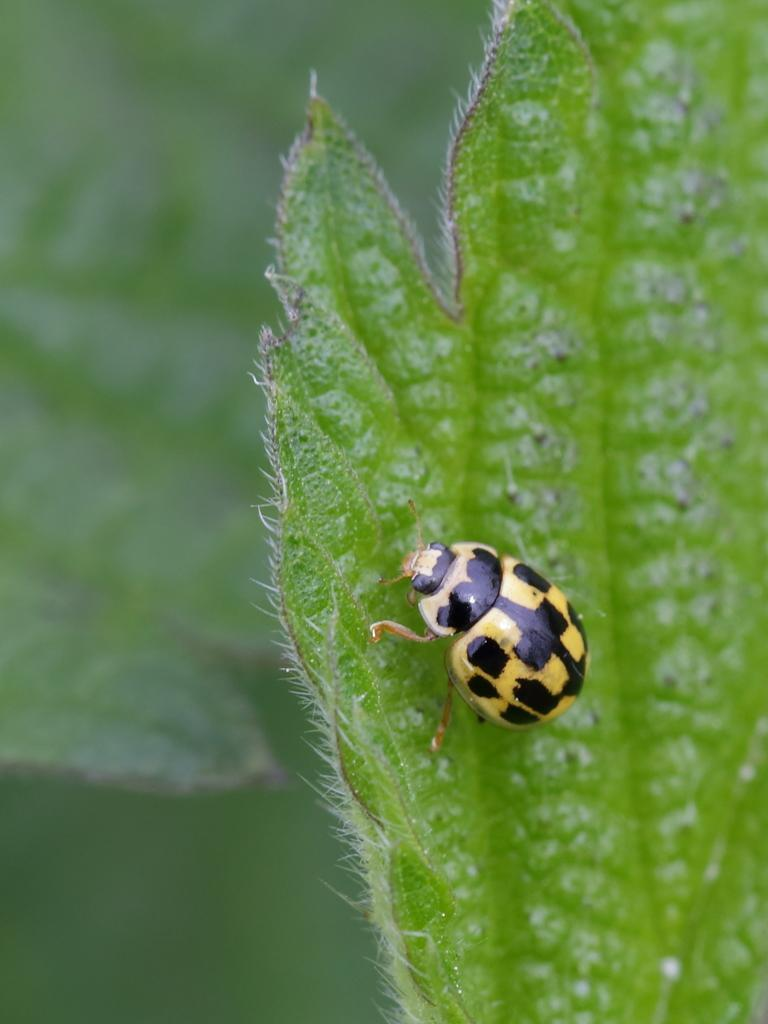ladybug: (366, 496, 596, 754)
